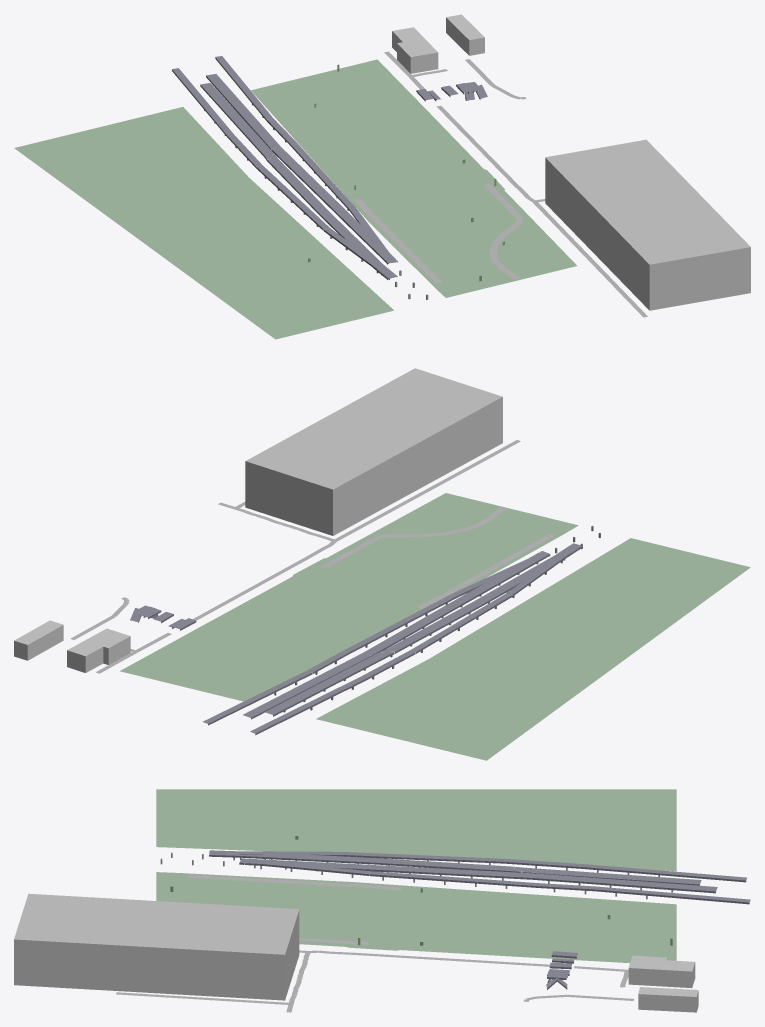
The picture shows the model from 3 angles, top to bottom: view 1: azimuth 30°, elevation 25°; view 2: azimuth 150°, elevation 25°; view 3: azimuth 270°, elevation 25°; orthographic projection.
Bounding box in the file's own units: 507 × 51.39 × 708.
